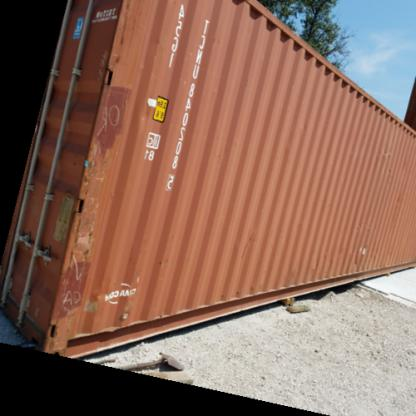Damage: (59, 188, 97, 330), (82, 71, 129, 157), (344, 230, 370, 270), (370, 146, 394, 162)
